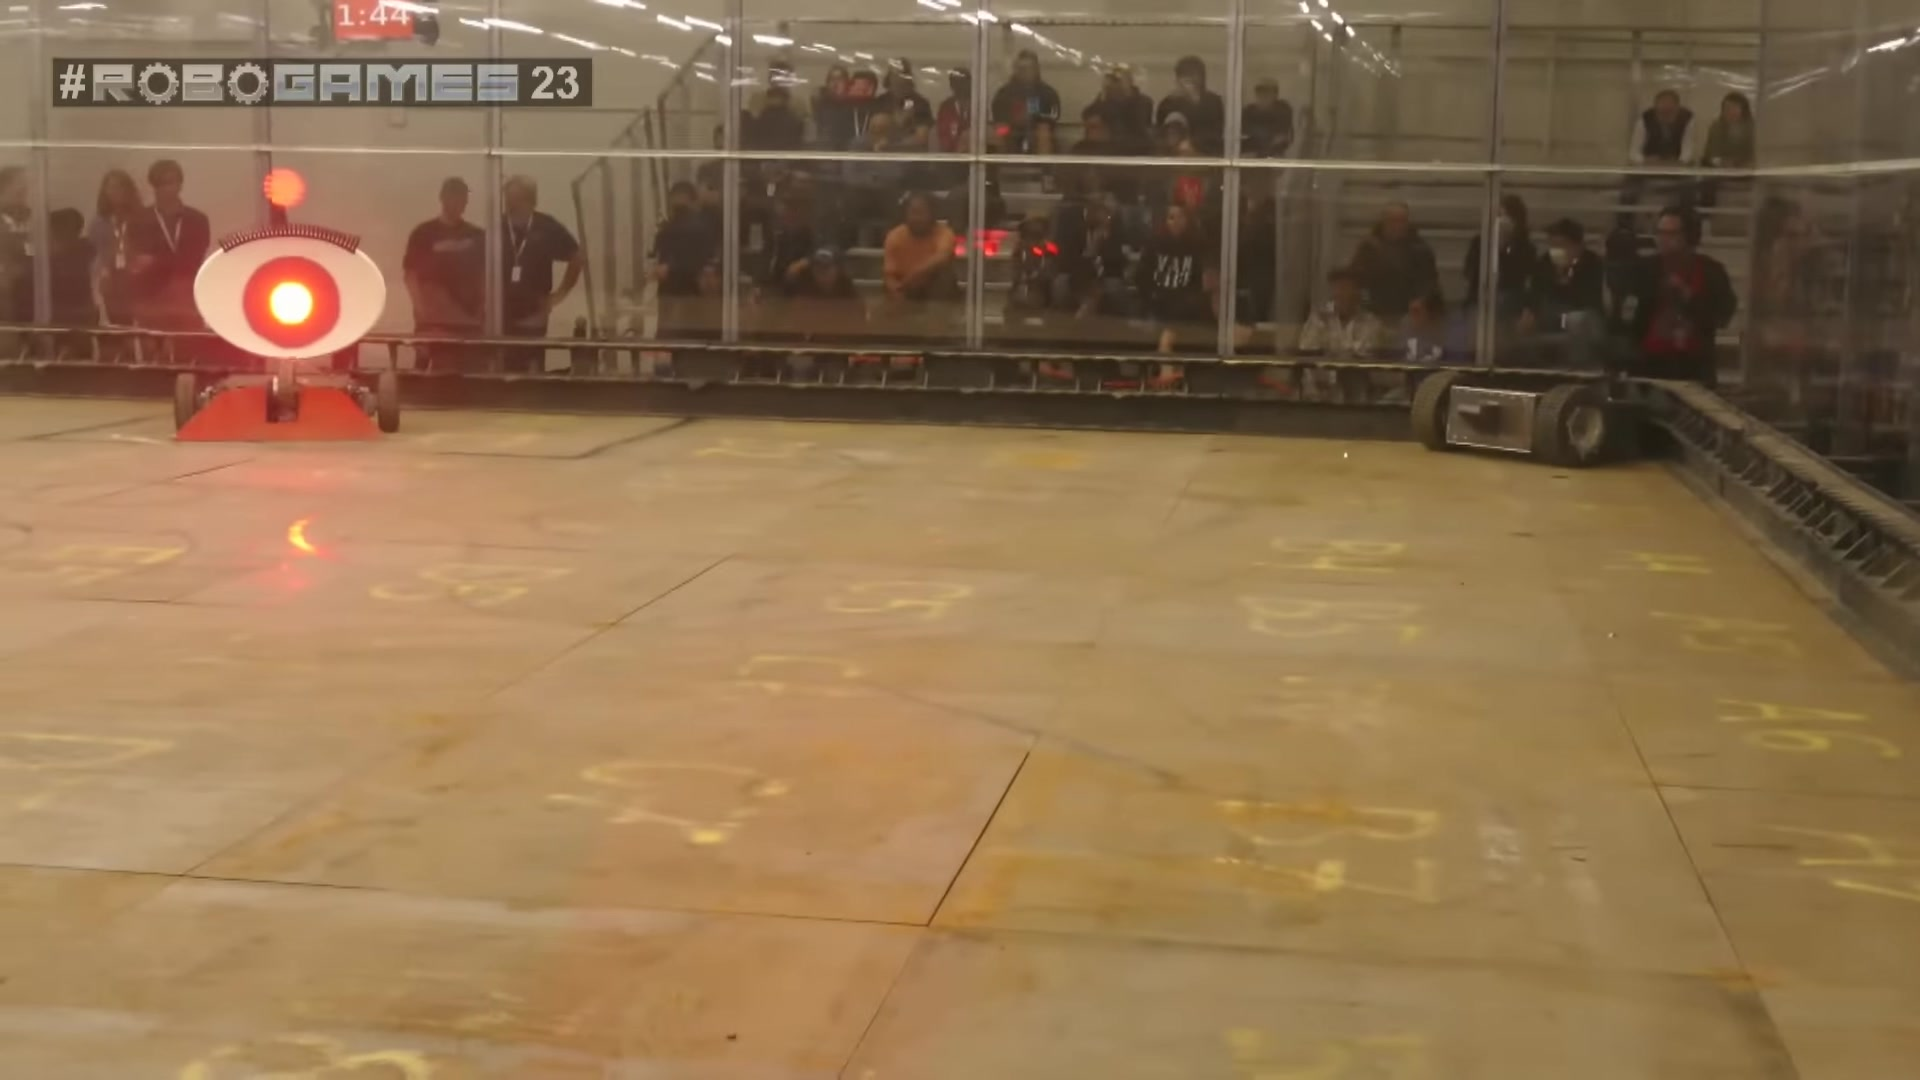combatbot: (169, 224, 407, 438), (1414, 369, 1610, 469)
